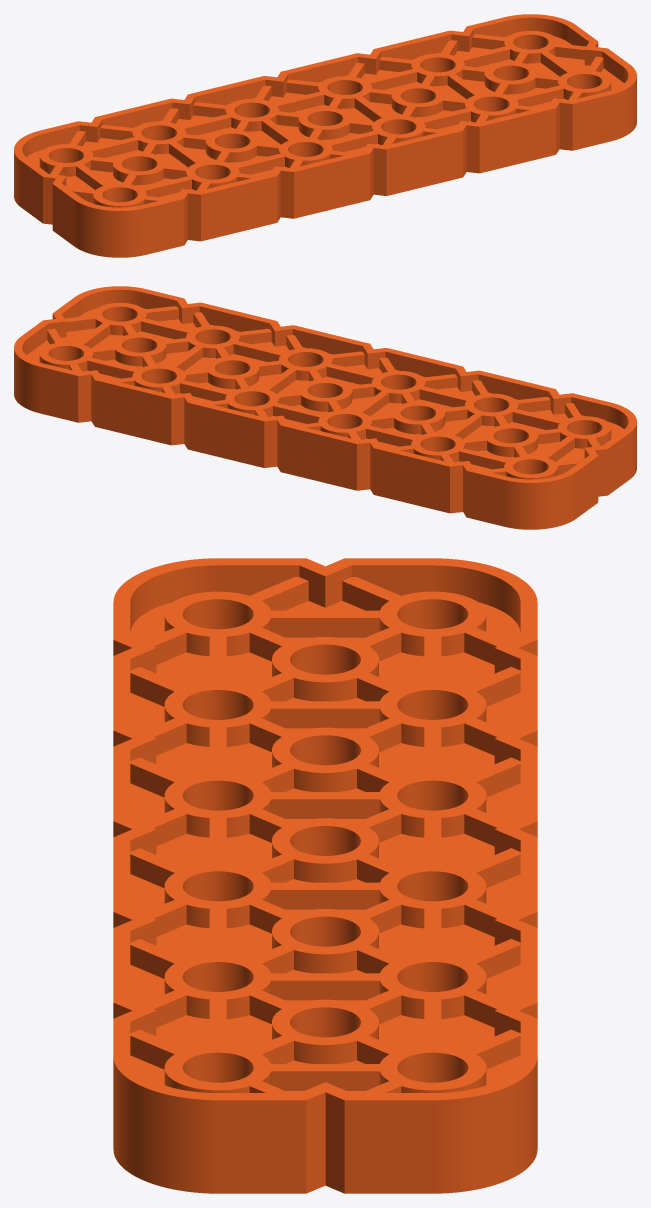
3 views of the same model, one above another, from view 1: azimuth 30°, elevation 25°; view 2: azimuth 150°, elevation 25°; view 3: azimuth 270°, elevation 25° (orthographic). The views are drawn at different scales.
Visible parts, largest first — view 1: 228-2500-021; view 2: 228-2500-021; view 3: 228-2500-021.
Boxes of the visible parts, x1,y1,x2,y2 form: 228-2500-021: (14, 14, 636, 257); 228-2500-021: (14, 286, 636, 529); 228-2500-021: (113, 558, 537, 1193).
Bounding box in the file's own units: 0.0759 × 0.0061 × 0.0251.
